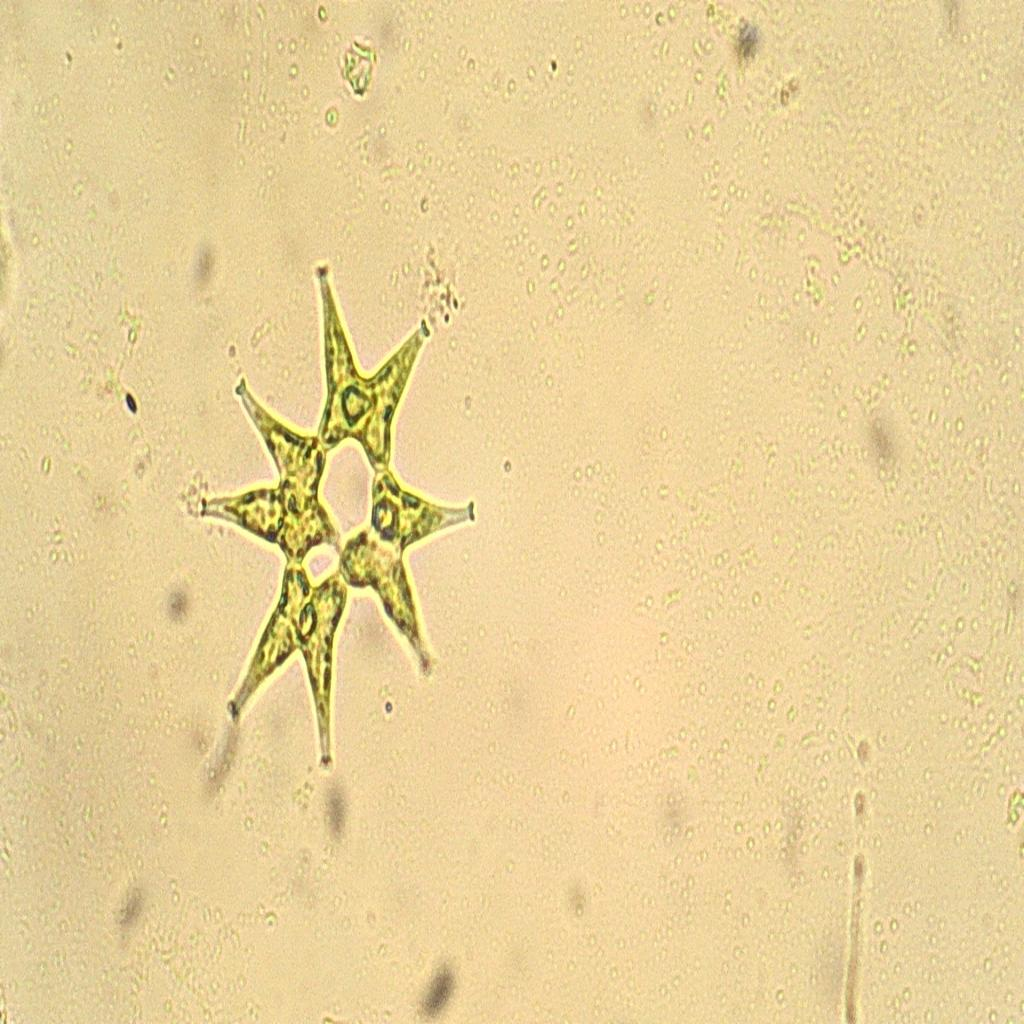Pediastrum_CF: (181, 233, 484, 792)
